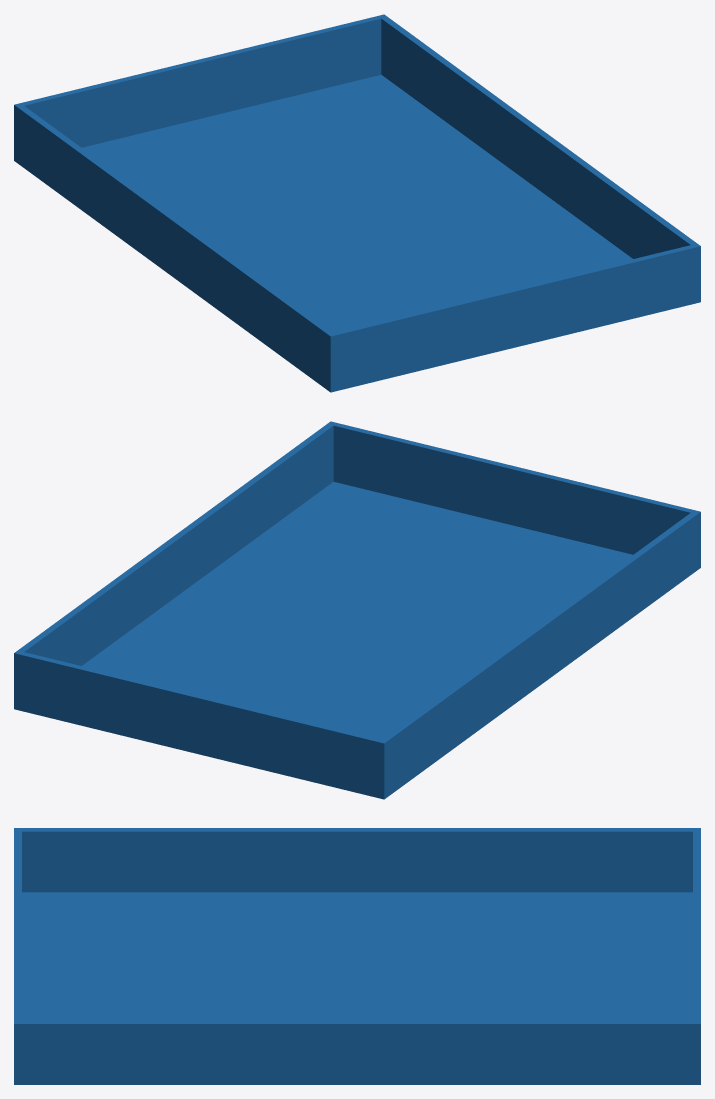
File: club.fbx
The picture shows the model from 3 angles, top to bottom: view 1: azimuth 30°, elevation 25°; view 2: azimuth 150°, elevation 25°; view 3: azimuth 270°, elevation 25°; orthographic projection. The views are drawn at different scales.
Visible parts, largest first — view 1: club; view 2: club; view 3: club.
Boxes of the visible parts, x1,y1,x2,y2 form: club: [14, 14, 700, 392]; club: [14, 421, 700, 799]; club: [14, 828, 700, 1084].
Size of the model in its own units: 2073 by 300 by 3071.
